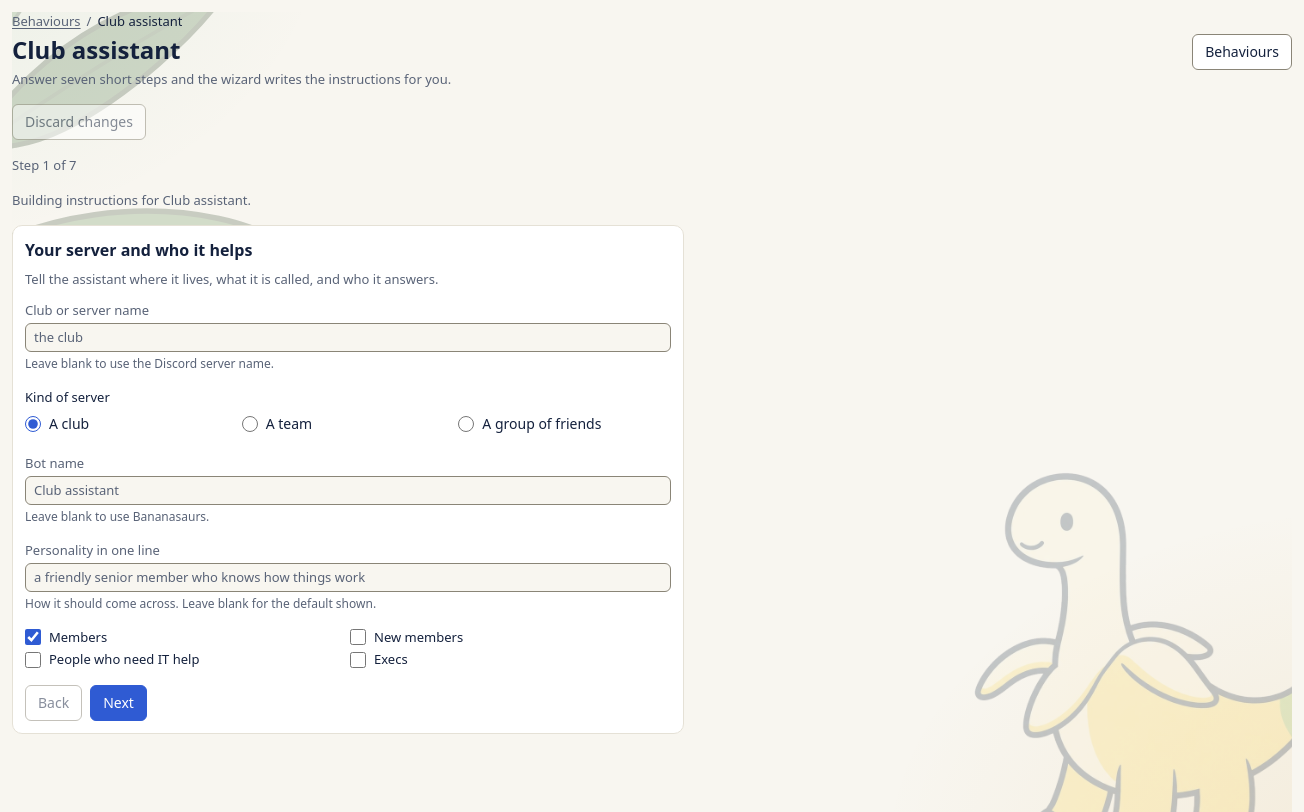
Test case: AssistantPromptWizardPage › disables Next until the audience has someone and the language fits 2 to 40 characters
Expected: the button "Next" is enabled, 90,685 -> 147,721
Click the checkbox labelled "Members" at (33, 637), box 25,629 -> 41,645
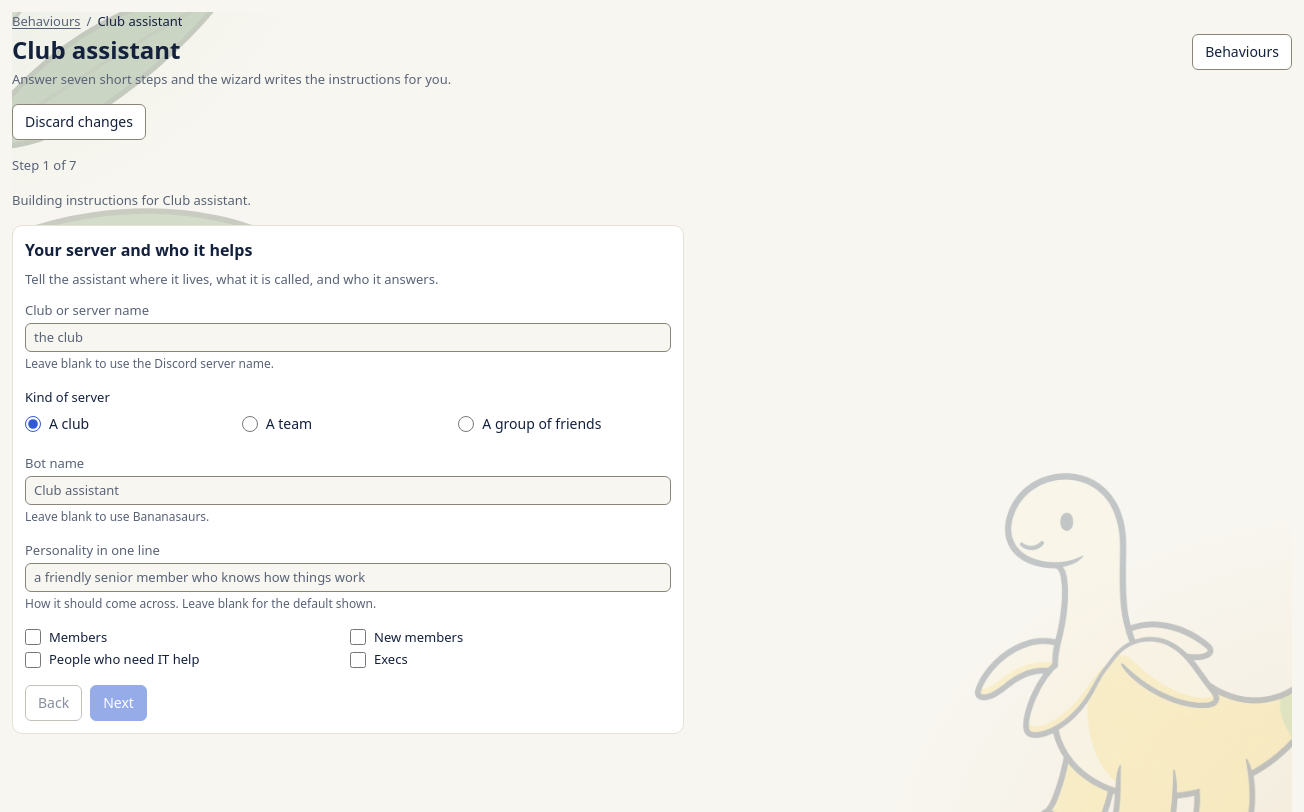
Expected: the button "Next" is disabled, 90,685 -> 147,721
Click the checkbox labelled "Members" at (33, 637), box 25,629 -> 41,645
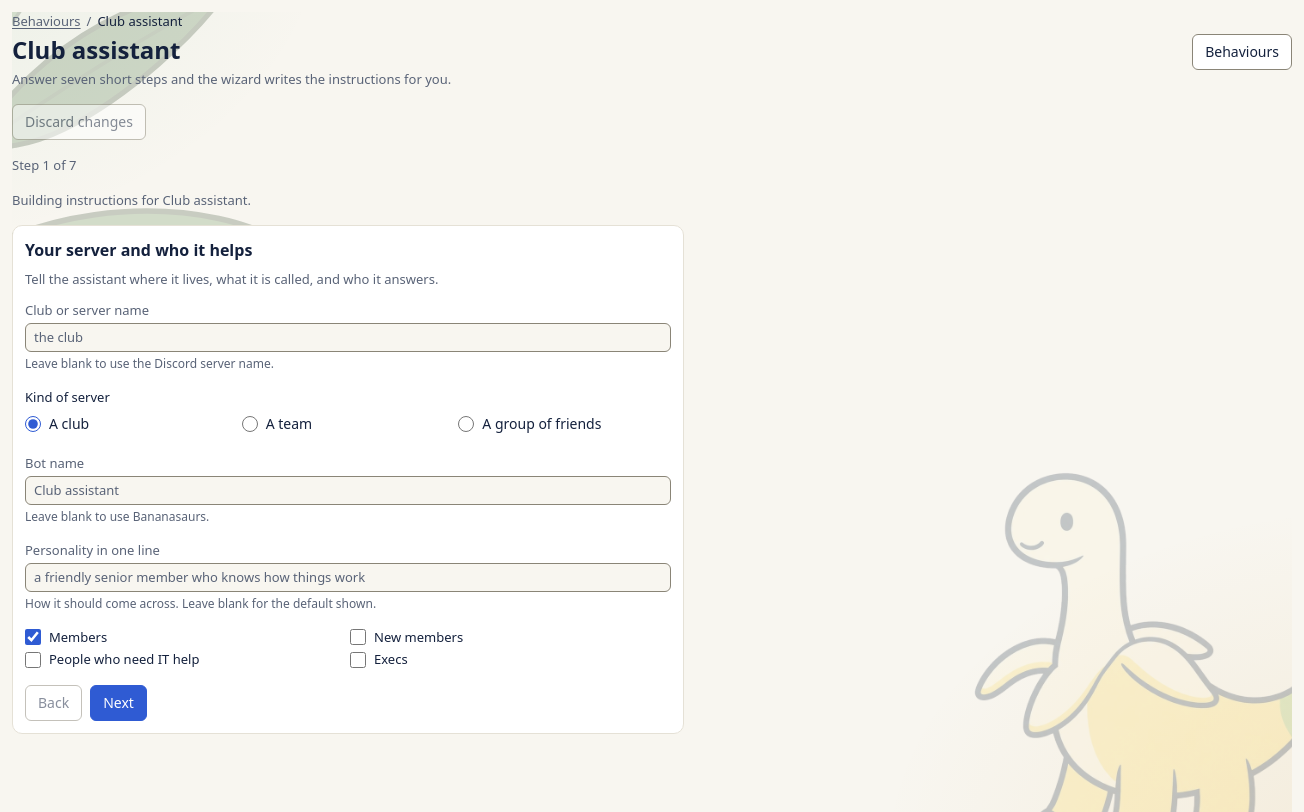
Expected: the button "Next" is enabled
Click the button "Next" at (119, 703), box 90,685 -> 147,721
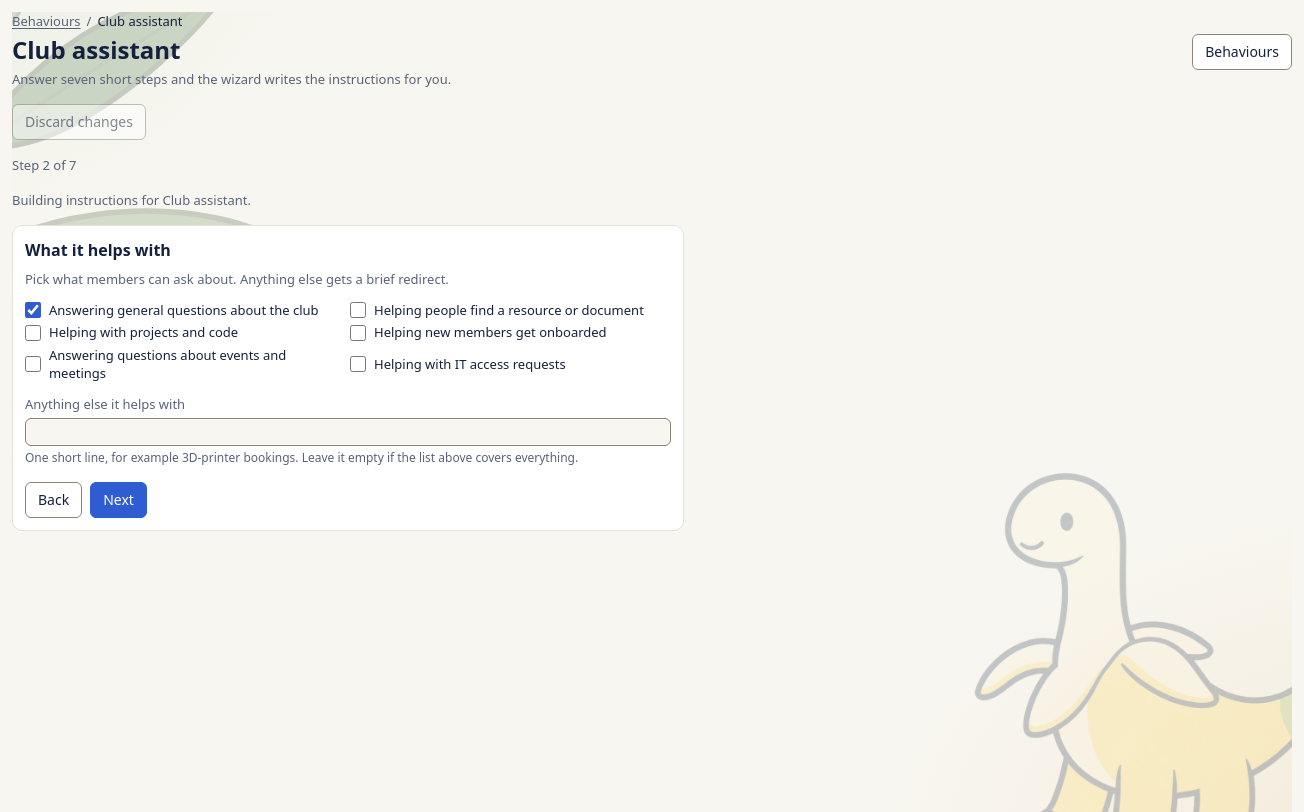
Click the button "Next" at (119, 500), box 90,482 -> 147,518
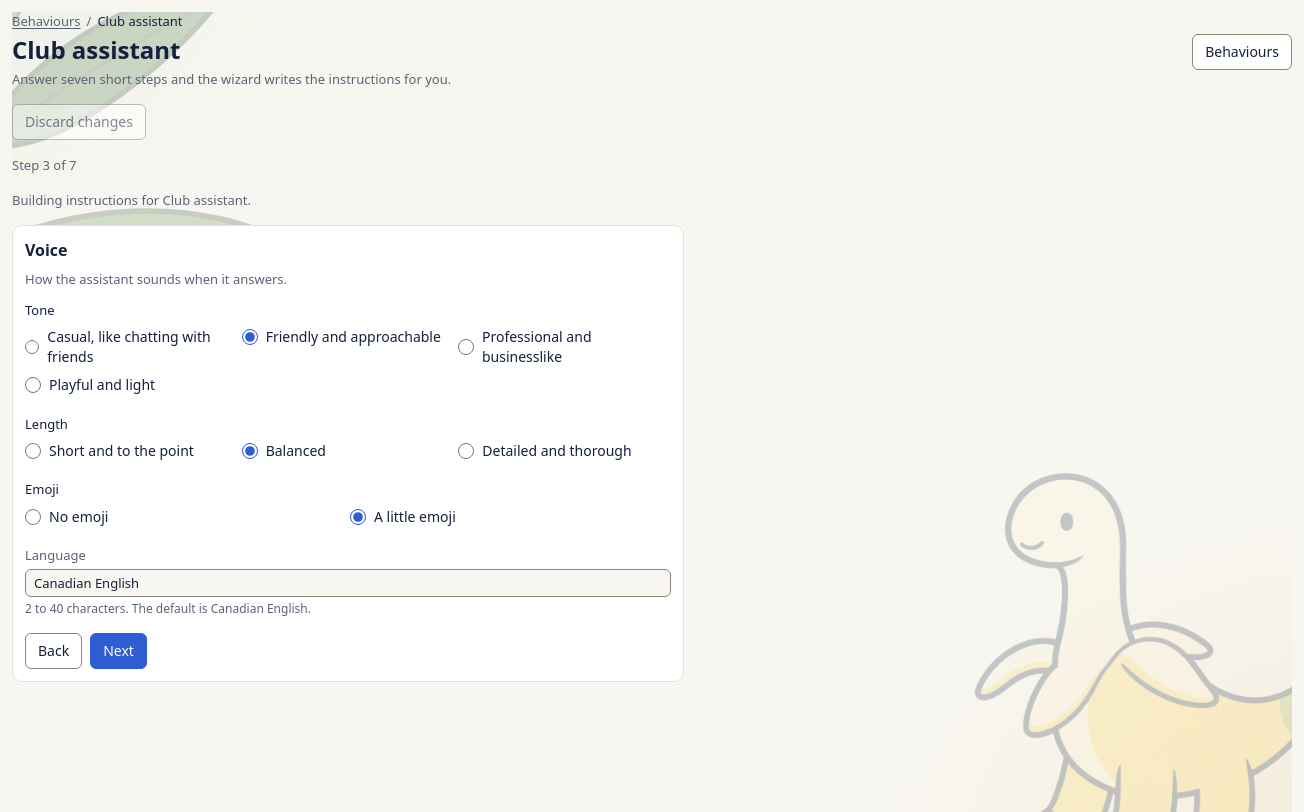
Expected: the heading "Voice" is shown, 25,238 -> 68,262
Clear the field labelled "Language" at (348, 583), box 25,569 -> 671,597
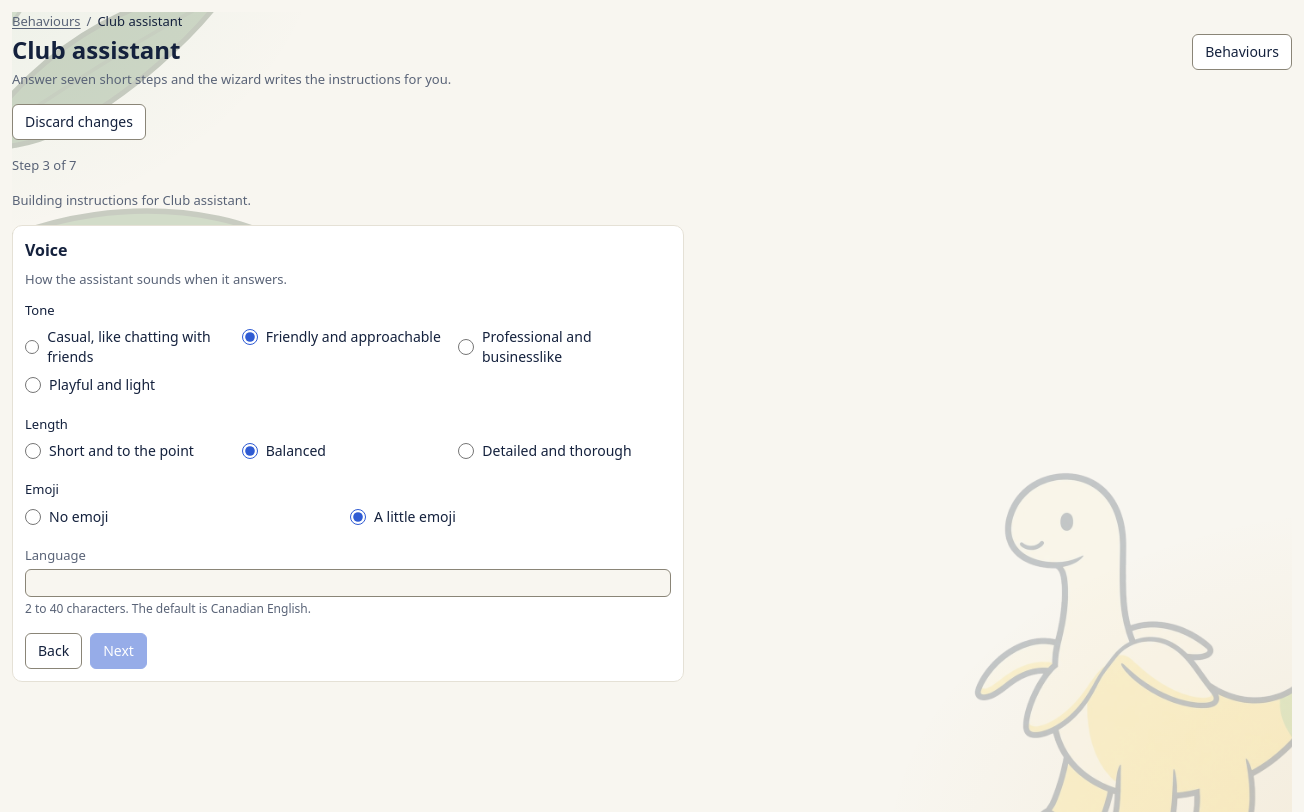
Expected: the button "Next" is disabled, 90,633 -> 147,669
Type "French" into the field labelled "Language" at (348, 583), box 25,569 -> 671,597
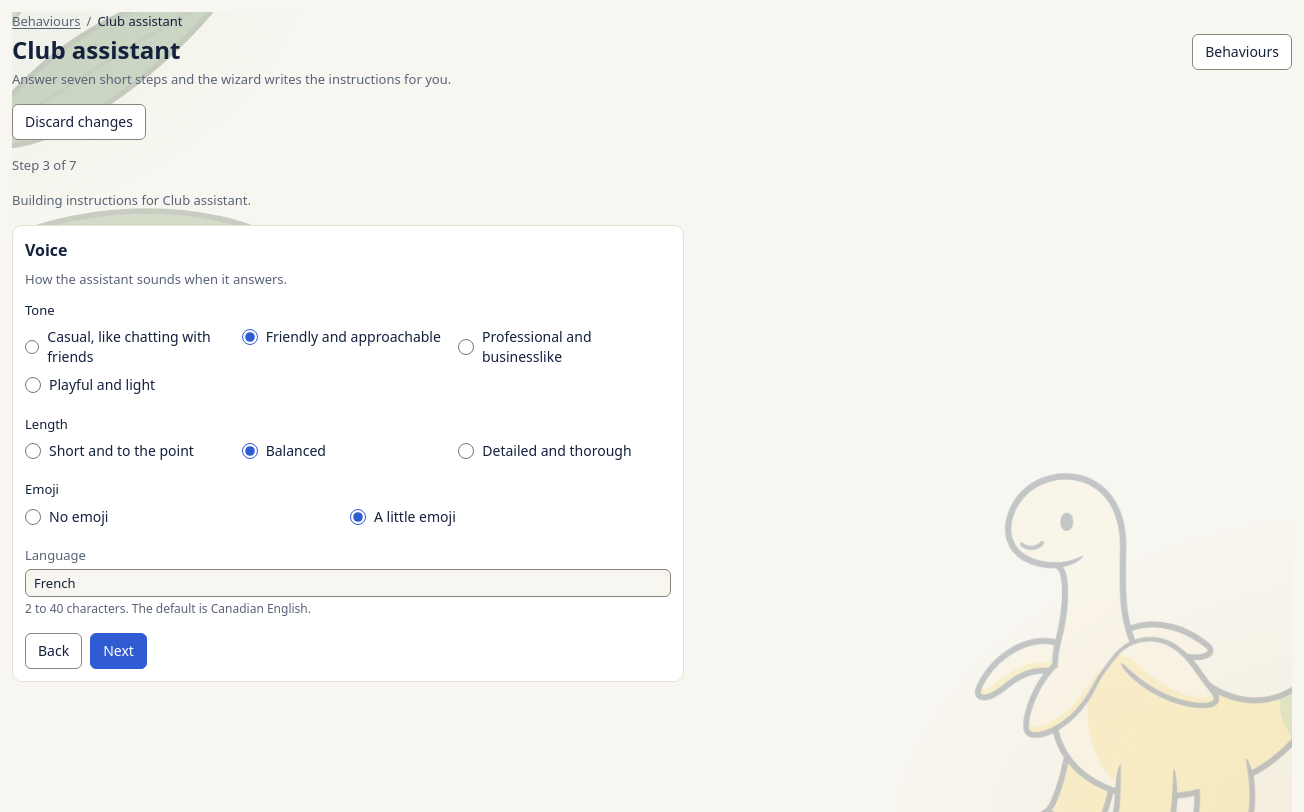
Expected: the button "Next" is enabled, 90,633 -> 147,669
